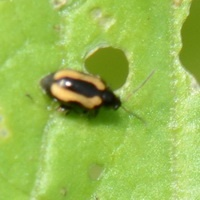insect: (40, 69, 120, 112)
